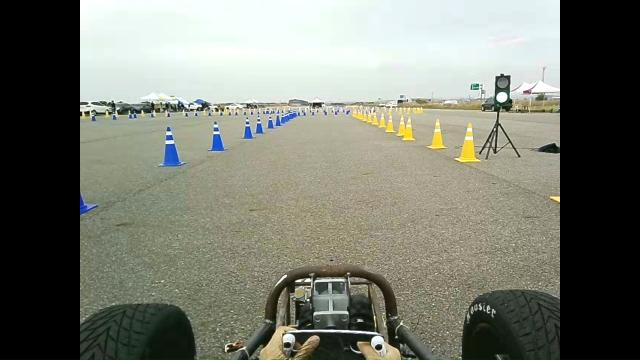blue cone: (157, 126, 186, 166), (207, 120, 227, 151), (242, 116, 254, 139), (255, 115, 265, 134), (274, 114, 282, 127), (267, 117, 274, 129)
yellow cone: (454, 122, 481, 163), (427, 118, 448, 149), (402, 116, 416, 141), (396, 115, 405, 136), (385, 114, 395, 132), (378, 113, 386, 128), (371, 114, 378, 125), (366, 113, 373, 123)
